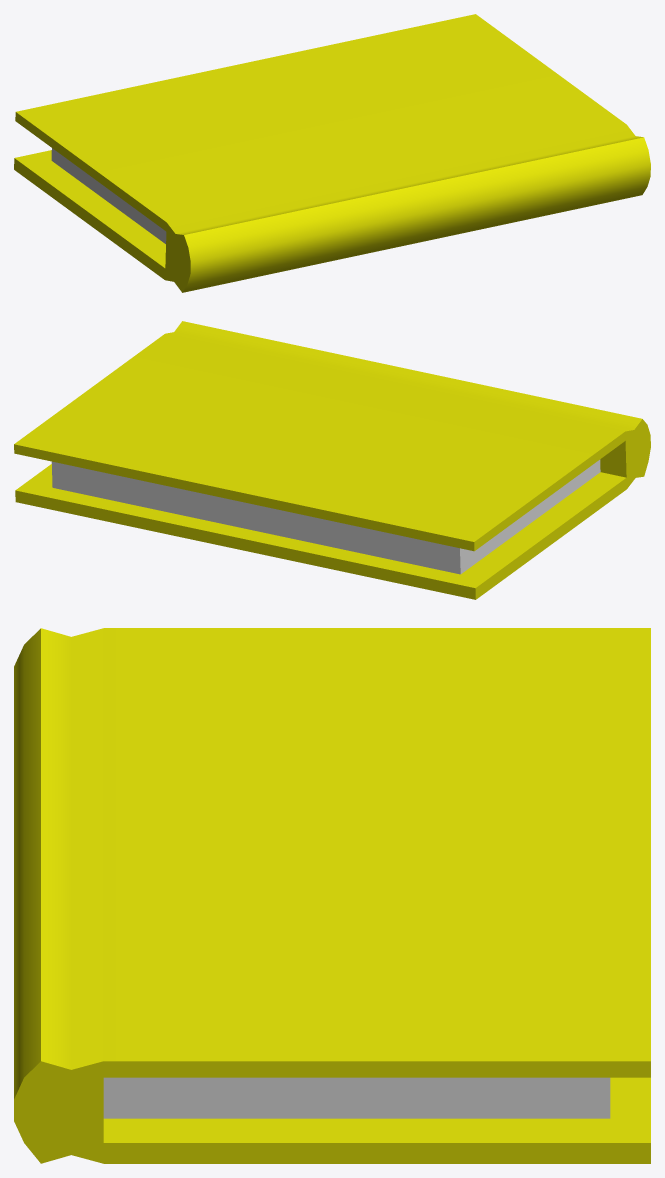
The model's file is Yellowbook.fbx.
3 renders of one model, top to bottom at view 1: azimuth 30°, elevation 25°; view 2: azimuth 150°, elevation 25°; view 3: azimuth 270°, elevation 25°, orthographic. The views are drawn at different scales.
Parts seen in each view (by area): view 1: pCube2; view 2: pCube2; view 3: pCube2.
Boxes of the visible parts, x1,y1,x2,y2 form: pCube2: (14, 14, 650, 292); pCube2: (14, 321, 650, 599); pCube2: (14, 628, 650, 1163).
Size of the model in its own units: 7.4 by 1.1 by 4.88.
